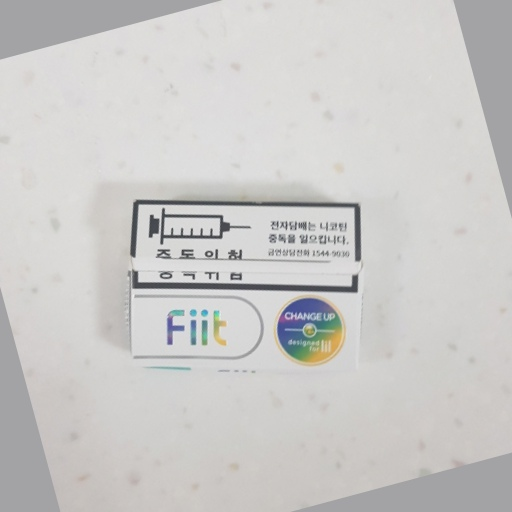Paper_0: (123, 195, 371, 385)
